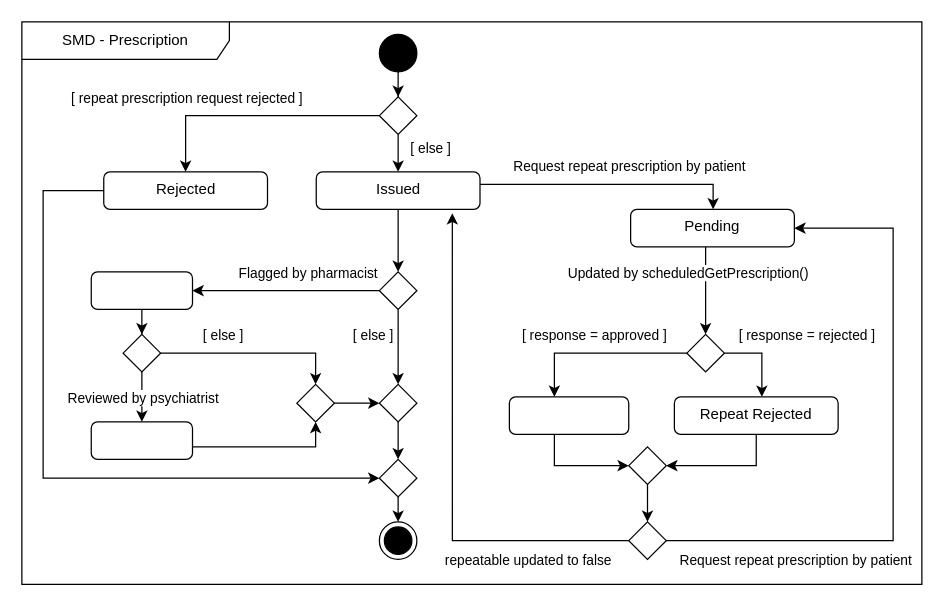
Image size: 944x606. Some labels were removed from this diagram. Here are the shapes that lost their labels. From the top down, the centre of each, then its label:
the point at 141,290: Flagged
the point at 568,415: Repeat Issued
the point at 141,440: Reviewed
